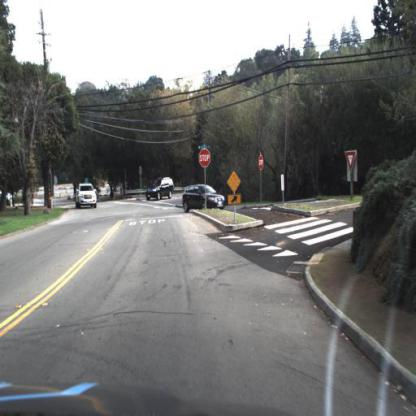car: (180, 181, 226, 217), (144, 173, 175, 204), (72, 182, 101, 213)
